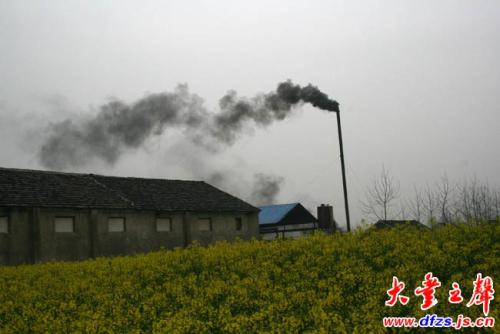smoke: (160, 80, 339, 128)
